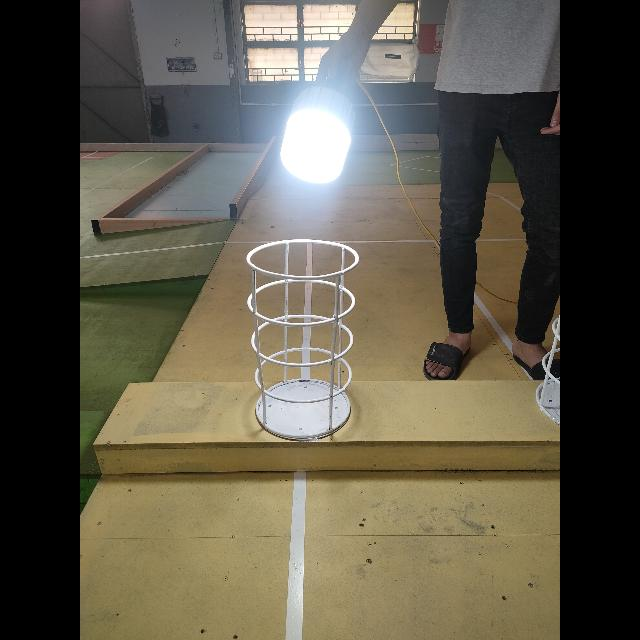S: (246, 237, 360, 441), (536, 310, 560, 426)
